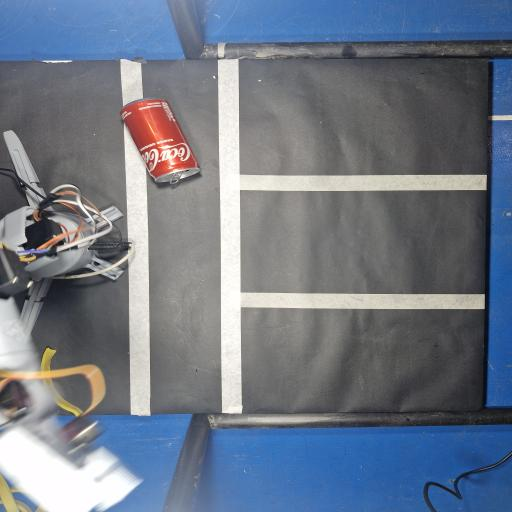lata: (120, 98, 199, 183)
